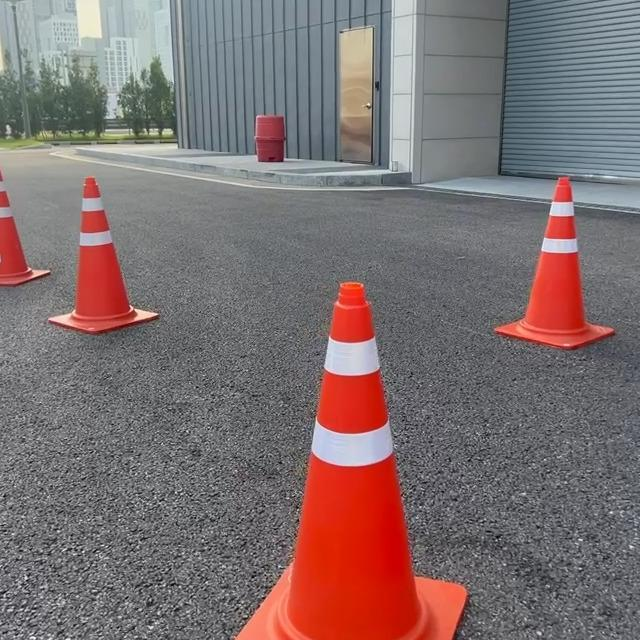fallen_object: (236, 250, 489, 640), (36, 177, 160, 355), (472, 202, 614, 356), (0, 156, 66, 286)
